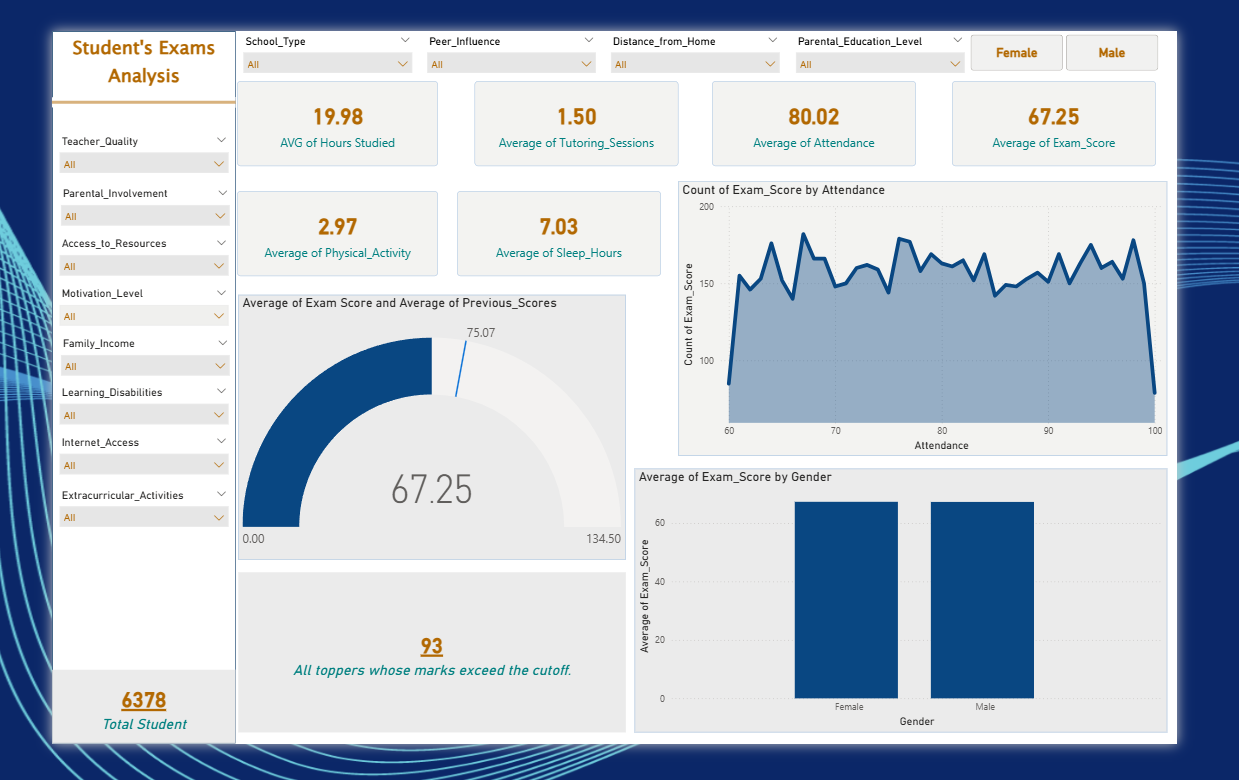

What the dashboard file says about the page in this screenshot:
{"tool":"powerbi","page":{"name":"Page 1","canvas":[1500,950],"ordinal":0},"visuals":[{"type":"shape","box":[0,0,245,950],"z":0},{"type":"textbox","box":[0,0,245.7,88.6],"z":1000},{"type":"shape","box":[0,88.3,245,13.3],"z":2000},{"type":"card","fields":{"Values":["cleaned_student_data.Total Student"]},"box":[0,851.7,245,98.3],"z":3000},{"type":"slicer","fields":{"Values":["cleaned_student_data.Teacher_Quality"]},"box":[0,133.3,245,66.7],"z":4000},{"type":"slicer","fields":{"Values":["cleaned_student_data.Access_to_Resources"]},"box":[0,270,245,66.7],"z":5000},{"type":"slicer","fields":{"Values":["cleaned_student_data.Motivation_Level"]},"box":[0,336.7,245,66.7],"z":6000},{"type":"slicer","fields":{"Values":["cleaned_student_data.Family_Income"]},"box":[1.7,403.3,245,65],"z":7000},{"type":"slicer","fields":{"Values":["cleaned_student_data.Parental_Involvement"]},"box":[1.7,203.3,245,66.7],"z":8000},{"type":"advancedSlicerVisual","fields":{"Values":["cleaned_student_data.Gender"]},"box":[1200,0,300,58.3],"z":9000},{"type":"slicer","fields":{"Values":["cleaned_student_data.Learning_Disabilities"]},"box":[0,468.3,245,66.7],"z":10000},{"type":"slicer","fields":{"Values":["cleaned_student_data.Internet_Access"]},"box":[0,535,245,70],"z":11000},{"type":"slicer","fields":{"Values":["cleaned_student_data.Extracurricular_Activities"]},"box":[0,605,245,66.7],"z":12000},{"type":"slicer","fields":{"Values":["cleaned_student_data.Distance_from_Home"]},"box":[735,0,245,58.3],"z":13000},{"type":"slicer","fields":{"Values":["cleaned_student_data.Peer_Influence"]},"box":[490,0,245,58.3],"z":14000},{"type":"card","fields":{"Values":["Avg(cleaned_student_data.Hours_Studied)"]},"box":[246.7,66.7,268.3,113.3],"z":16000},{"type":"areaChart","fields":{"Category":["cleaned_student_data.Attendance"],"Y":["CountNonNull(cleaned_student_data.Exam_Score)"]},"box":[835,200,651.7,366.7],"z":17000},{"type":"columnChart","fields":{"Category":["cleaned_student_data.Gender"],"Y":["Avg(cleaned_student_data.Exam_Score)"]},"box":[776.7,583.3,710,351.7],"z":18000},{"type":"gauge","fields":{"Y":["Avg(cleaned_student_data.Exam_Score)"],"TargetValue":["Avg(cleaned_student_data.Previous_Scores)"]},"box":[248.3,351.7,516.7,353.3],"z":19000},{"type":"slicer","fields":{"Values":["cleaned_student_data.Parental_Education_Level"]},"box":[981.7,0,245,58.3],"z":20000},{"type":"card","fields":{"Values":["Avg(cleaned_student_data.Physical_Activity)"]},"box":[246.7,213.3,268.3,113.3],"z":21000},{"type":"card","fields":{"Values":["Avg(cleaned_student_data.Tutoring_Sessions)"]},"box":[563.3,66.7,271.7,113.3],"z":22000},{"type":"card","fields":{"Values":["Avg(cleaned_student_data.Sleep_Hours)"]},"box":[540,213.3,271.7,113.3],"z":23000},{"type":"card","fields":{"Values":["Avg(cleaned_student_data.Exam_Score)"]},"box":[1200,66.7,271.7,113.3],"z":24000},{"type":"card","fields":{"Values":["Avg(cleaned_student_data.Attendance)"]},"box":[880,66.7,271.7,113.3],"z":25000},{"type":"card","fields":{"Values":["cleaned_student_data.Topper cutoff"]},"box":[248.3,721.7,516.7,213.3],"z":26000},{"type":"slicer","fields":{"Values":["cleaned_student_data.School_Type"]},"box":[245,0,245,58.3],"z":26001}]}

Visuals, with their boxes in screenshot pixels (x1, y1, x2, y2), scaled from the page's 1500x950 canvas onto the 1239x780 screenshot:
shape: (x1=0, y1=0, x2=202, y2=779)
textbox: (x1=0, y1=0, x2=203, y2=73)
shape: (x1=0, y1=72, x2=202, y2=83)
card - cleaned_student_data.Total Student: (x1=0, y1=699, x2=202, y2=779)
slicer - cleaned_student_data.Teacher_Quality: (x1=0, y1=109, x2=202, y2=164)
slicer - cleaned_student_data.Access_to_Resources: (x1=0, y1=222, x2=202, y2=276)
slicer - cleaned_student_data.Motivation_Level: (x1=0, y1=276, x2=202, y2=331)
slicer - cleaned_student_data.Family_Income: (x1=1, y1=331, x2=204, y2=384)
slicer - cleaned_student_data.Parental_Involvement: (x1=1, y1=167, x2=204, y2=222)
advancedSlicerVisual - cleaned_student_data.Gender: (x1=991, y1=0, x2=1238, y2=48)
slicer - cleaned_student_data.Learning_Disabilities: (x1=0, y1=384, x2=202, y2=439)
slicer - cleaned_student_data.Internet_Access: (x1=0, y1=439, x2=202, y2=497)
slicer - cleaned_student_data.Extracurricular_Activities: (x1=0, y1=497, x2=202, y2=552)
slicer - cleaned_student_data.Distance_from_Home: (x1=607, y1=0, x2=809, y2=48)
slicer - cleaned_student_data.Peer_Influence: (x1=405, y1=0, x2=607, y2=48)
card - Avg(cleaned_student_data.Hours_Studied): (x1=204, y1=55, x2=425, y2=148)
areaChart - cleaned_student_data.Attendance x CountNonNull(cleaned_student_data.Exam_Score): (x1=690, y1=164, x2=1228, y2=465)
columnChart - cleaned_student_data.Gender x Avg(cleaned_student_data.Exam_Score): (x1=642, y1=479, x2=1228, y2=768)
gauge - Avg(cleaned_student_data.Exam_Score) x Avg(cleaned_student_data.Previous_Scores): (x1=205, y1=289, x2=632, y2=579)
slicer - cleaned_student_data.Parental_Education_Level: (x1=811, y1=0, x2=1013, y2=48)
card - Avg(cleaned_student_data.Physical_Activity): (x1=204, y1=175, x2=425, y2=268)
card - Avg(cleaned_student_data.Tutoring_Sessions): (x1=465, y1=55, x2=690, y2=148)
card - Avg(cleaned_student_data.Sleep_Hours): (x1=446, y1=175, x2=670, y2=268)
card - Avg(cleaned_student_data.Exam_Score): (x1=991, y1=55, x2=1216, y2=148)
card - Avg(cleaned_student_data.Attendance): (x1=727, y1=55, x2=951, y2=148)
card - cleaned_student_data.Topper cutoff: (x1=205, y1=593, x2=632, y2=768)
slicer - cleaned_student_data.School_Type: (x1=202, y1=0, x2=405, y2=48)
